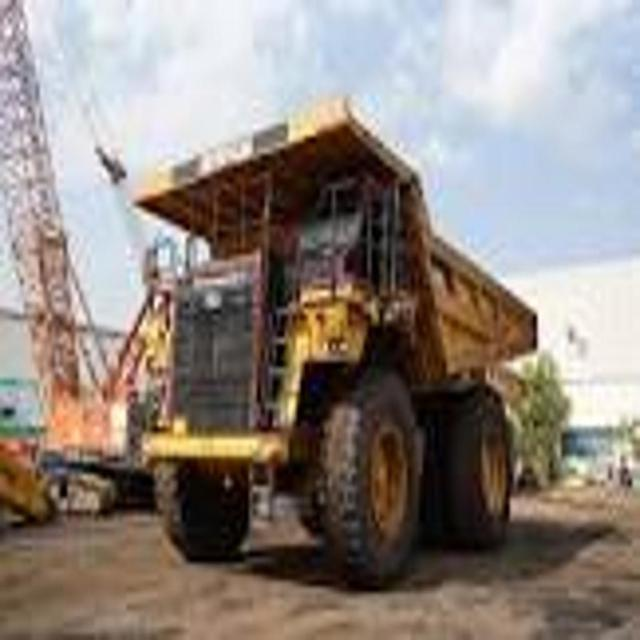dump_truck: (126, 84, 541, 596)
